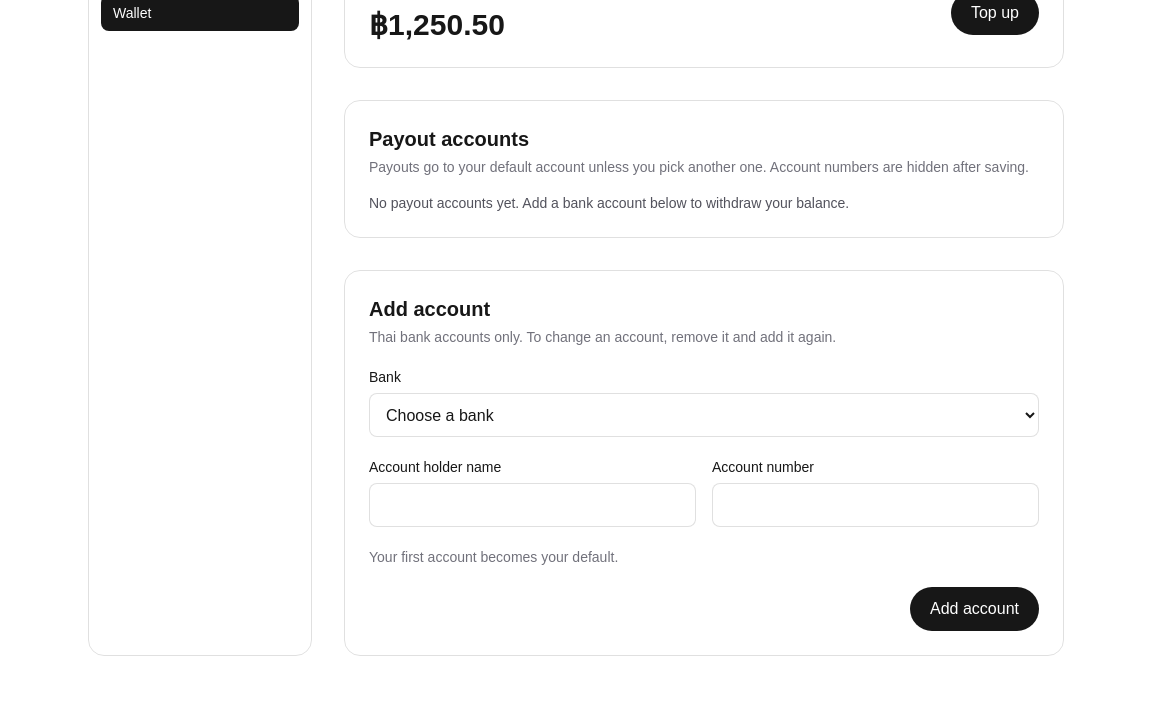
Test: WalletSettingsPage › validates the form before sending anything
(page scrolled)
Click the button "Add account" at (974, 609), box [910, 587, 1039, 631]
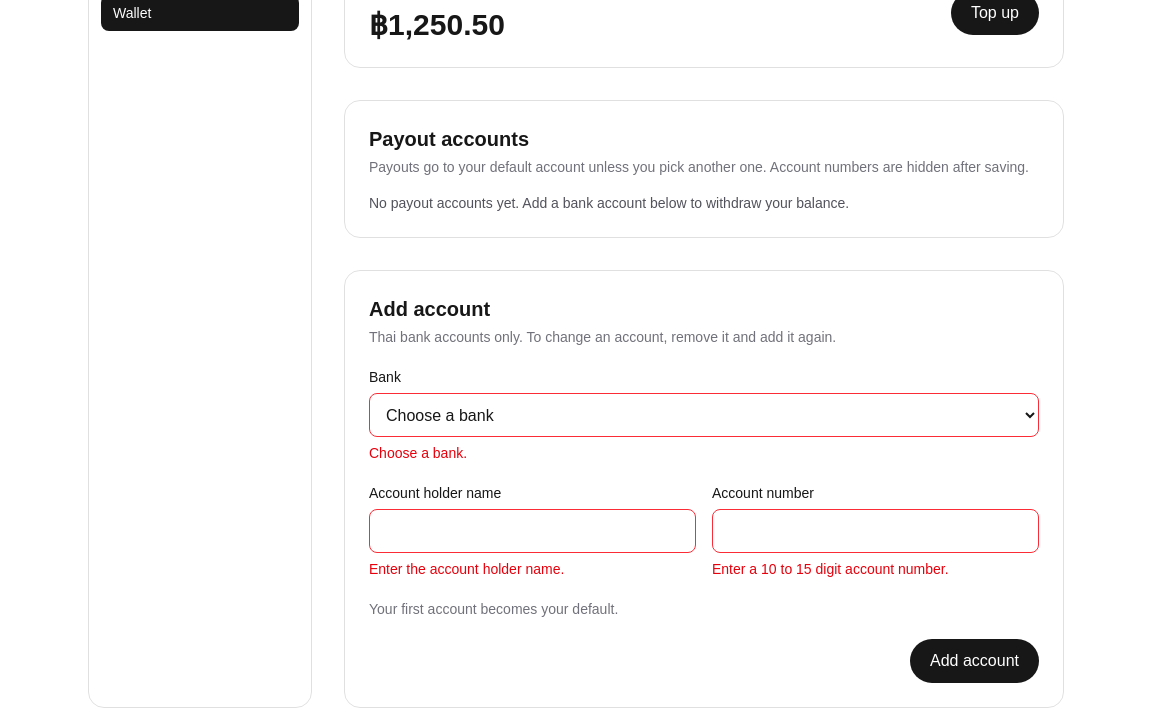
Expected: the text "Choose a bank." is shown, [369, 445, 467, 461]
Expected: the text "Enter the account holder name." is shown, [369, 561, 564, 577]
Expected: the text "Enter a 10 to 15 digit account number." is shown, [712, 561, 949, 577]
